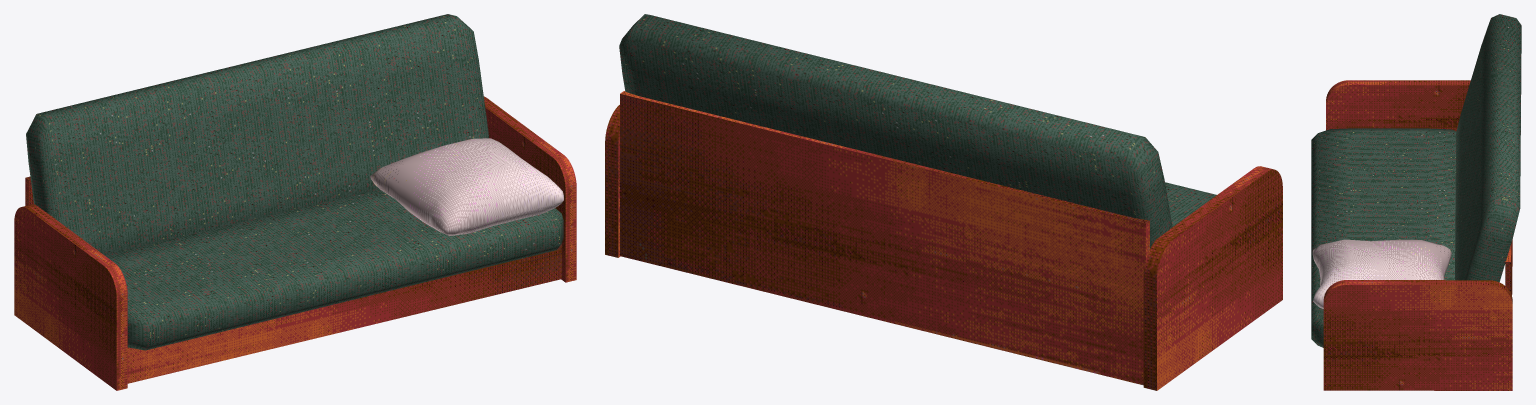
The model's file is sofa&pillow.fbx.
3 renders of one model, left to right at view 1: azimuth 30°, elevation 25°; view 2: azimuth 150°, elevation 25°; view 3: azimuth 270°, elevation 25°, orthographic. The views are drawn at different scales.
Parts seen in each view (by area): view 1: sofa pillow, sofa frame, pillow; view 2: sofa frame, sofa pillow; view 3: sofa pillow, sofa frame, pillow.
Part boxes in pixels (x1,y1,x2,y2): sofa pillow: (26, 14, 563, 350); sofa frame: (14, 96, 576, 390); pillow: (370, 138, 563, 235); sofa frame: (605, 91, 1282, 390); sofa pillow: (619, 14, 1216, 248); sofa pillow: (1311, 14, 1521, 347); sofa frame: (1323, 80, 1512, 390); pillow: (1312, 239, 1451, 308).
Bounding box in the file's own units: 252 × 105 × 109.
